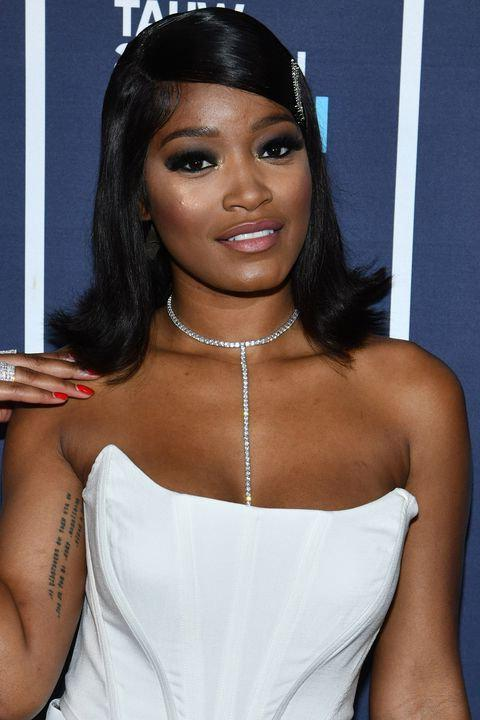Sober: (154, 90, 315, 293)
